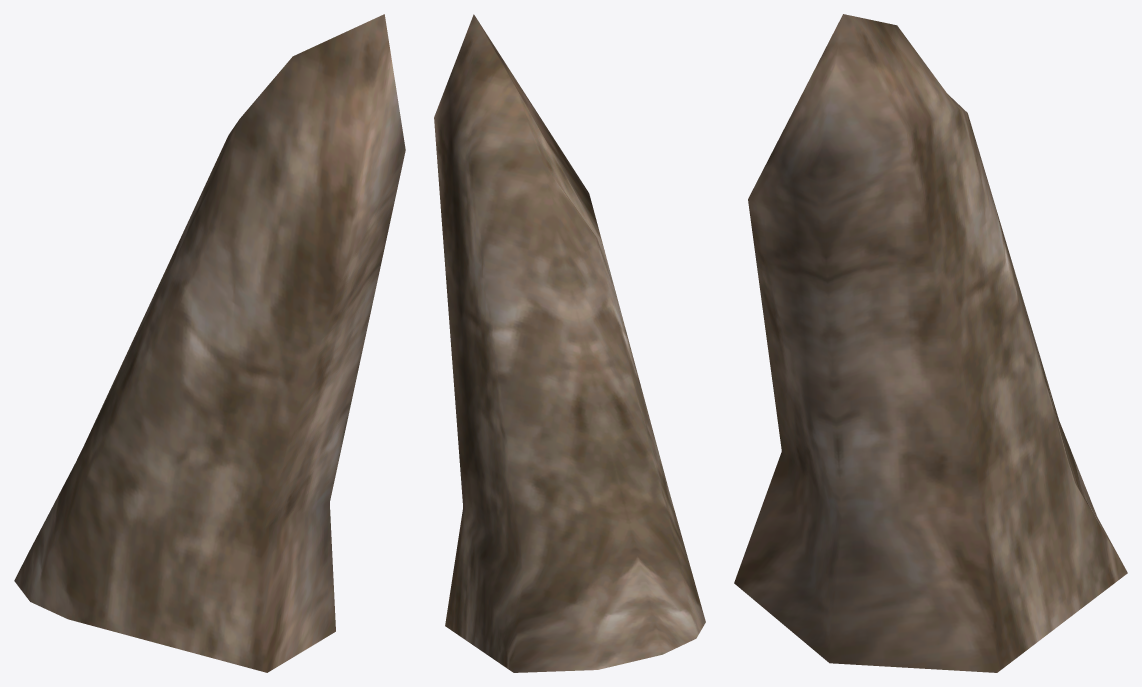
File: OVERHILL_A_01_ROCK44.fbx
3 renders of one model, left to right at view 1: azimuth 30°, elevation 25°; view 2: azimuth 150°, elevation 25°; view 3: azimuth 270°, elevation 25°, orthographic. The views are drawn at different scales.
Parts seen in each view (by area): view 1: OVERHILL_A_01_ROCK44; view 2: OVERHILL_A_01_ROCK44; view 3: OVERHILL_A_01_ROCK44.
Part boxes in pixels (<box>): OVERHILL_A_01_ROCK44: <box>14,14,405,672</box>; OVERHILL_A_01_ROCK44: <box>434,14,705,672</box>; OVERHILL_A_01_ROCK44: <box>734,14,1127,672</box>.
Bounding box in the file's own units: 27138 × 49737 × 26135.
Materials: 1 (1 with a texture image).
